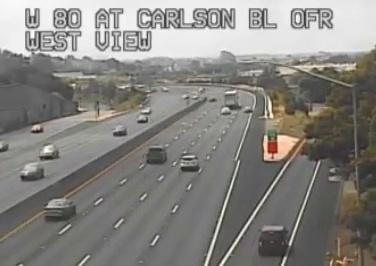car: (258, 226, 287, 254), (42, 199, 74, 217), (146, 145, 166, 163), (180, 155, 198, 169)
